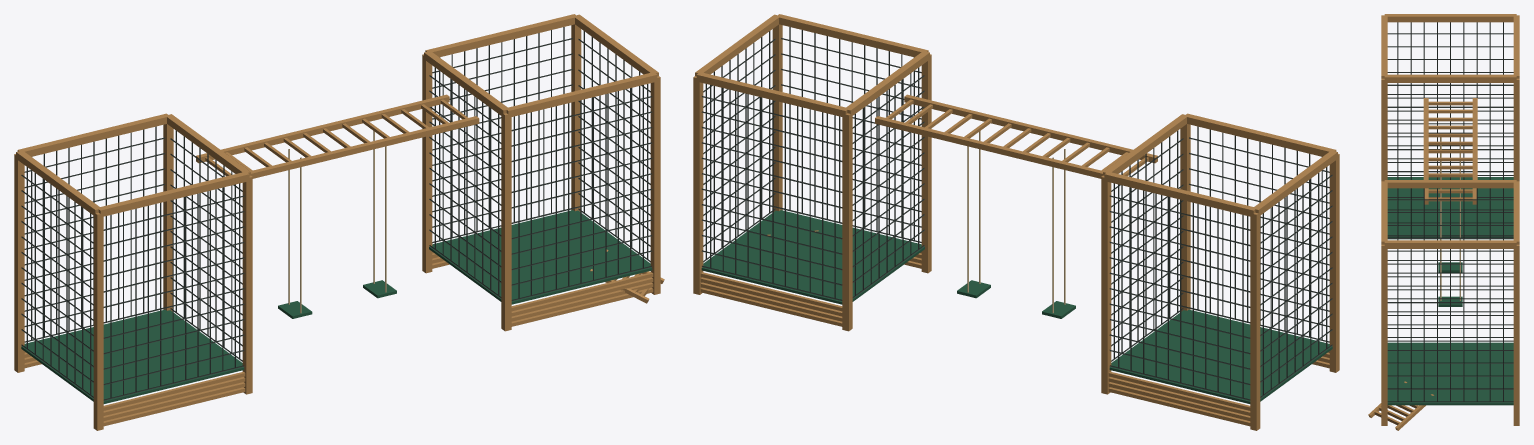
The picture shows the model from 3 angles, left to right: view 1: azimuth 30°, elevation 25°; view 2: azimuth 150°, elevation 25°; view 3: azimuth 270°, elevation 25°; orthographic projection. The views are drawn at different scales.
Visible parts, largest first — view 1: SW-E112; view 2: SW-E112; view 3: SW-E112.
Boxes of the visible parts, bbox=[...] form: SW-E112: bbox=[14, 14, 664, 430]; SW-E112: bbox=[693, 14, 1339, 430]; SW-E112: bbox=[1368, 14, 1519, 430].
Size of the model in its own units: 8.8 by 3.2 by 2.4.
